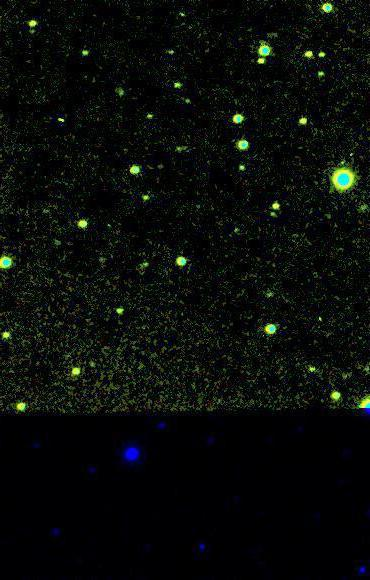star: (162, 0, 192, 30)
